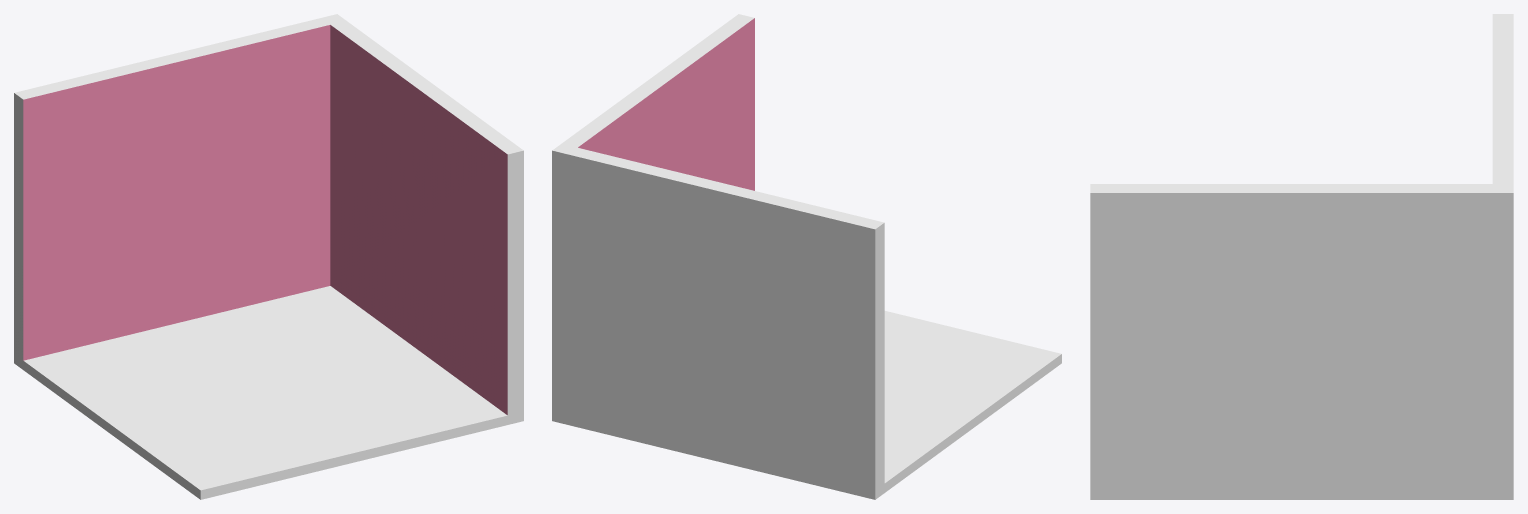
File: Wall_27.fbx
3 views of the same model, side by side, from view 1: azimuth 30°, elevation 25°; view 2: azimuth 150°, elevation 25°; view 3: azimuth 270°, elevation 25° (orthographic). The views are drawn at different scales.
Parts seen in each view (by area): view 1: Wall_27; view 2: Wall_27; view 3: Wall_27.
Part boxes in pixels (x1=…): Wall_27: x1=14, y1=14, x2=523, y2=499; Wall_27: x1=552, y1=14, x2=1061, y2=499; Wall_27: x1=1090, y1=14, x2=1513, y2=499.
Size of the model in its own units: 3.8 by 3.04 by 3.8.
